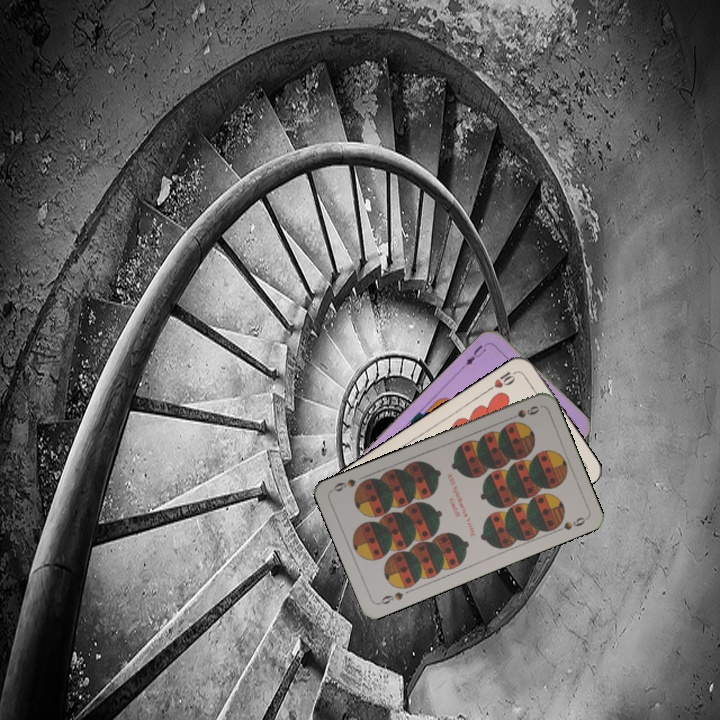EU: (459, 338, 492, 370)
H10: (484, 367, 520, 394)
S9: (503, 402, 542, 423), (374, 588, 406, 607)
